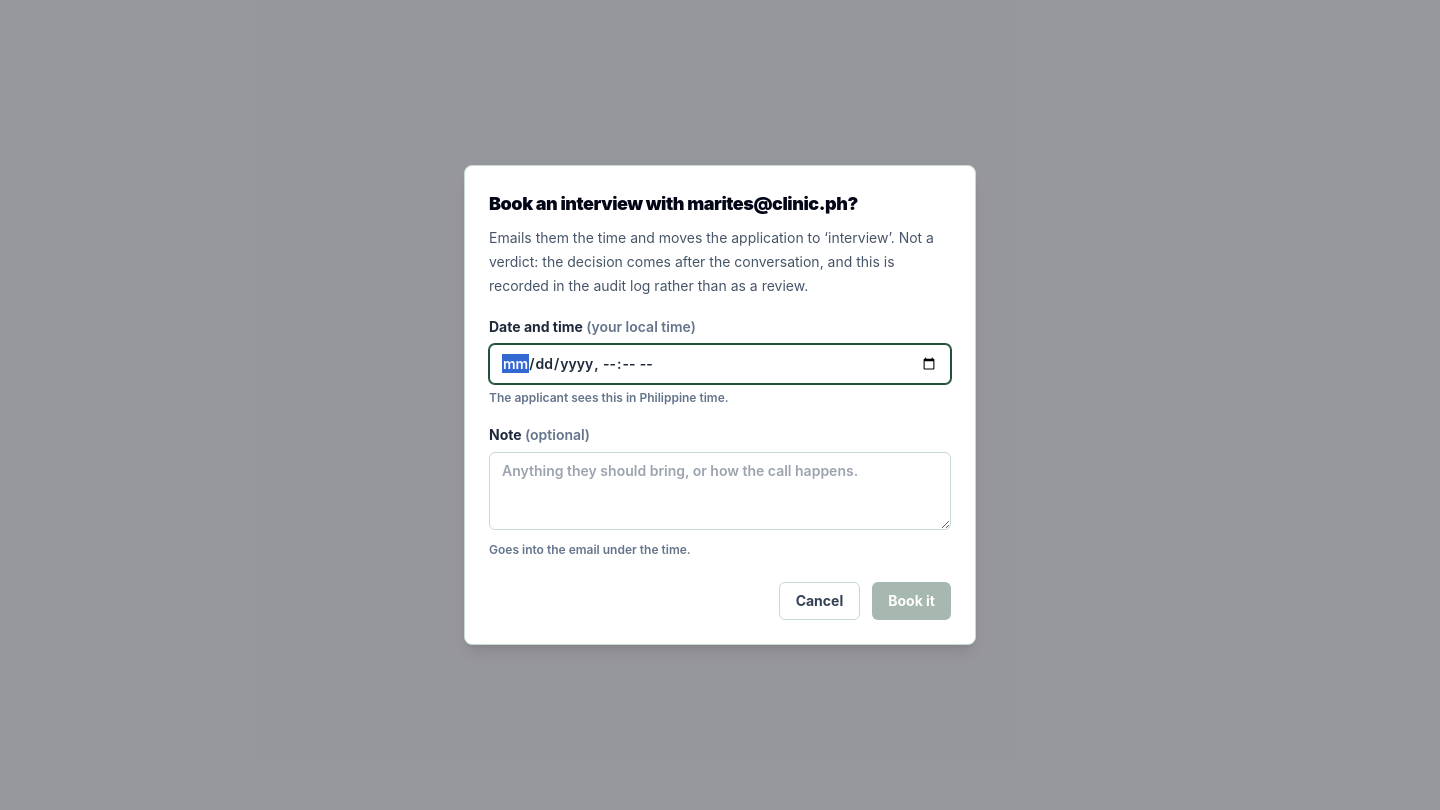
Scenario: InterviewDialog › refuses a time that has already gone
Step 1. Type "2020-01-01T09:00" into the field labelled "Date and time (your local time)" → (720, 364), box [489,344,951,384]
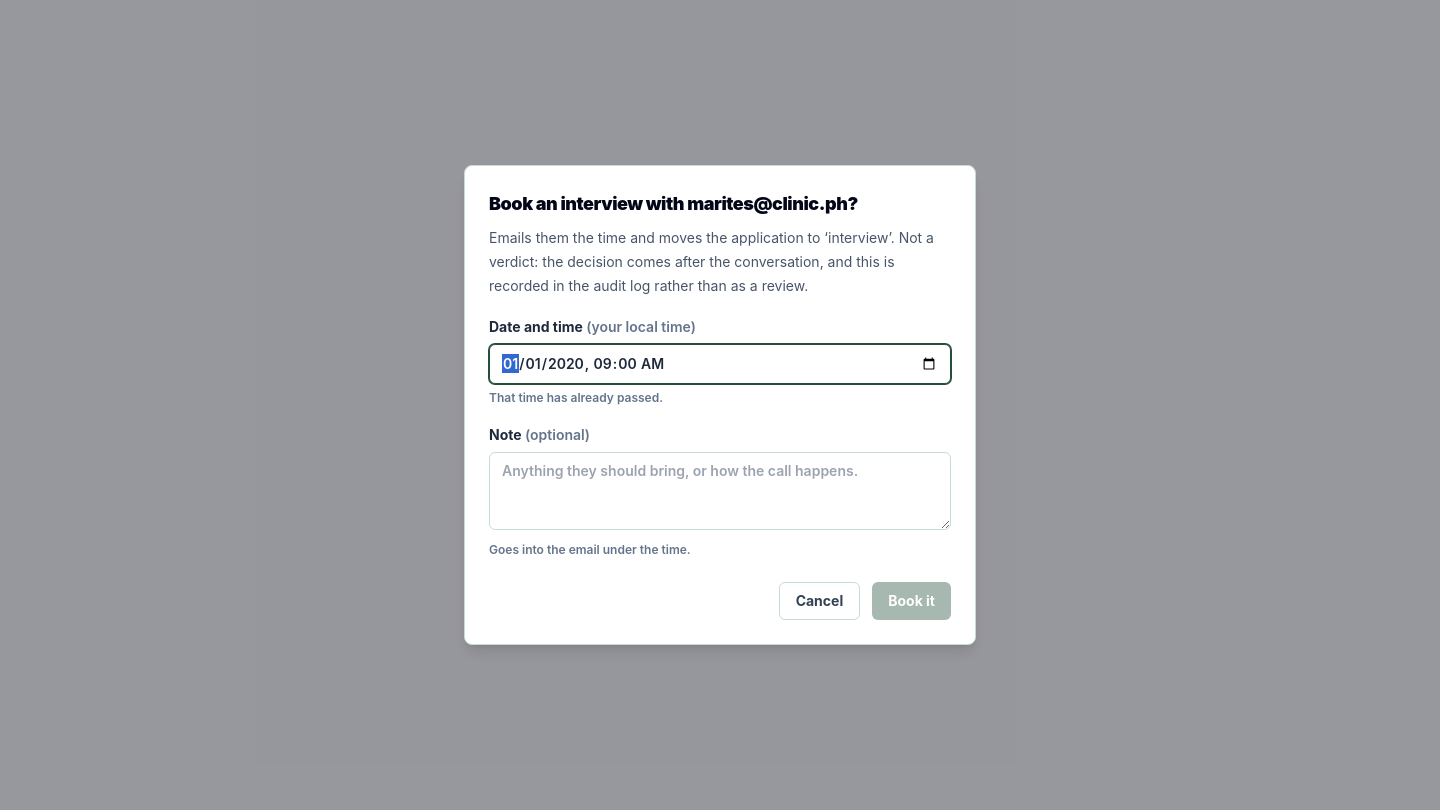
Expected: the button "Book it" is disabled, [872,582,951,620]
Result: the text "That time has already passed." is shown at [489,390,663,405]
